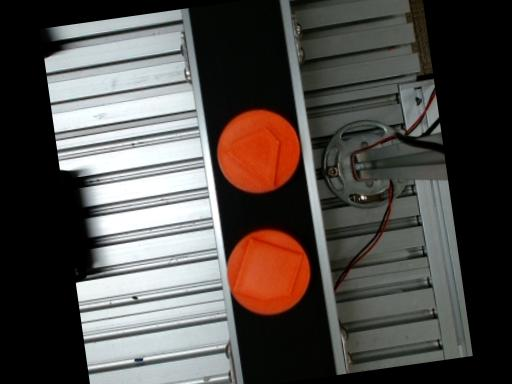Not_Square: (233, 237, 302, 300), (221, 126, 279, 188)
Orange_Waper: (227, 229, 309, 315), (216, 110, 298, 193)
